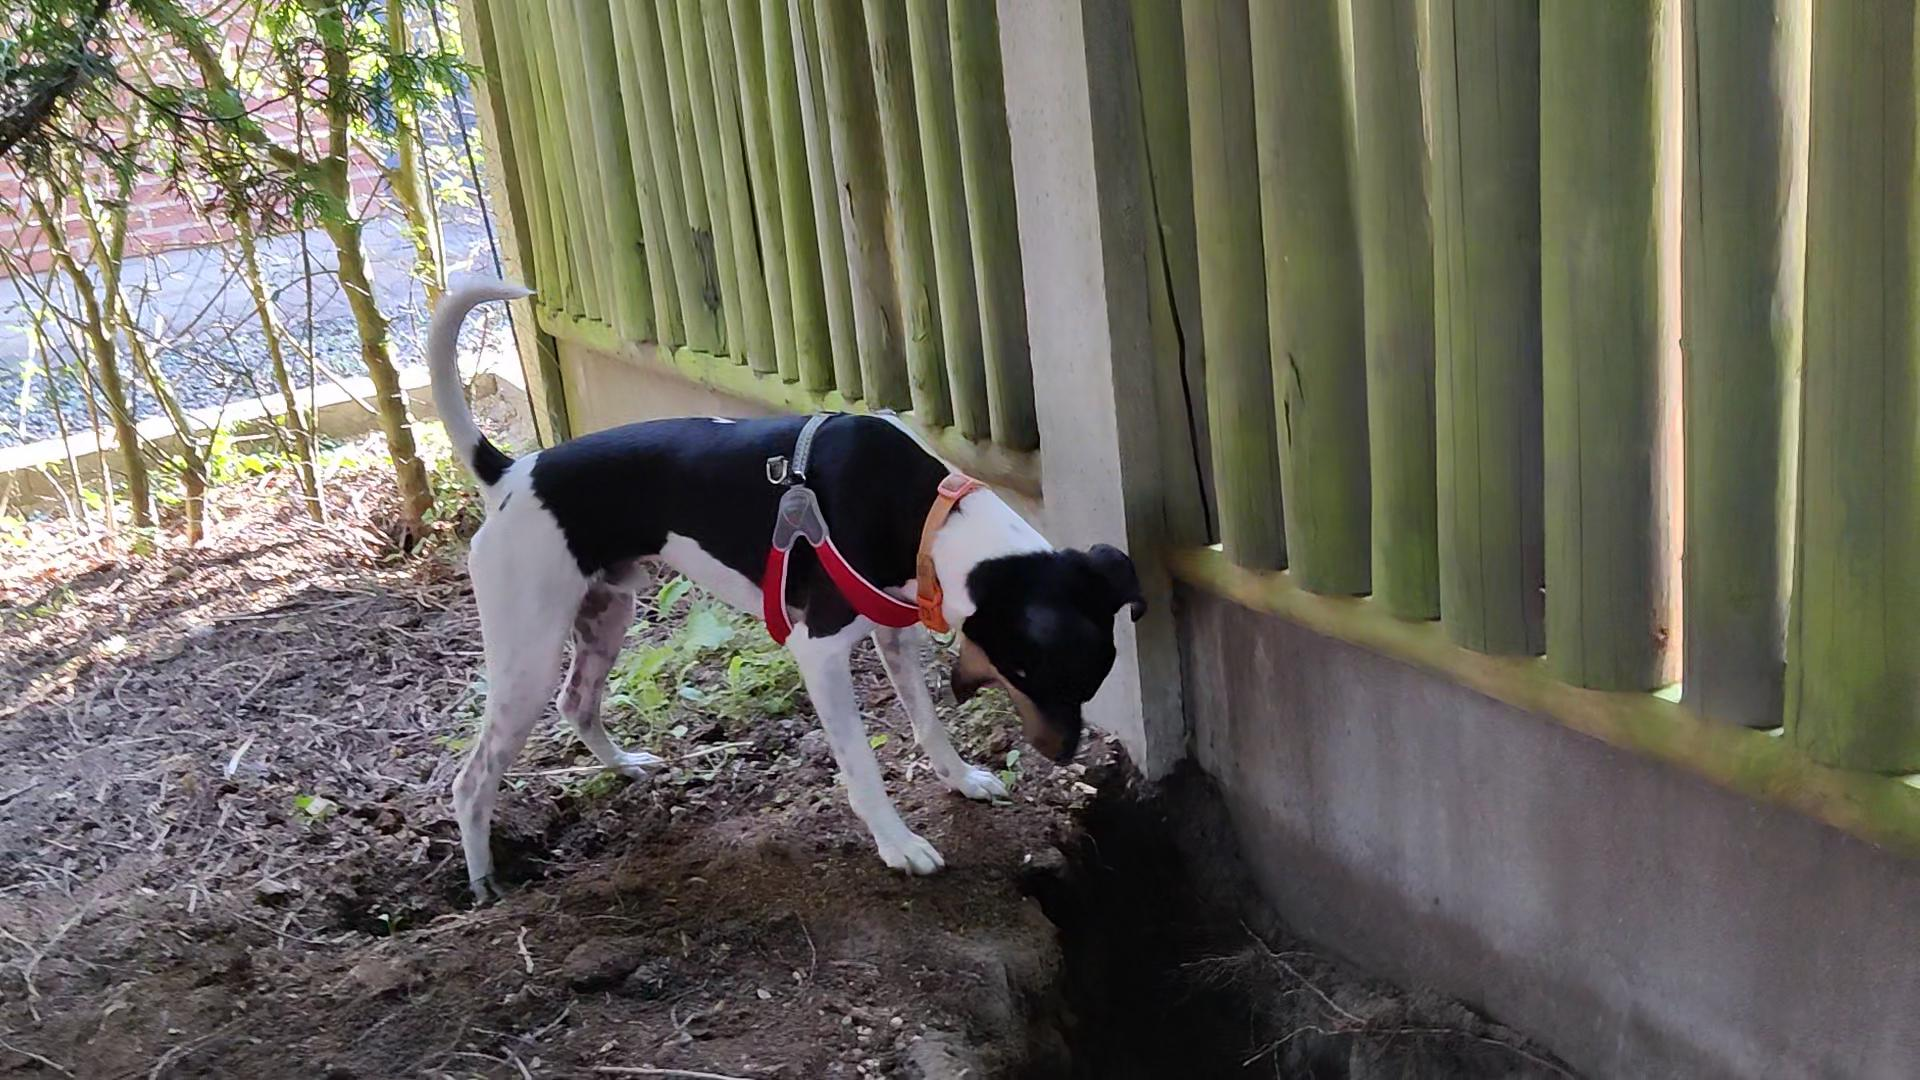Dog: (349, 244, 1209, 916)
